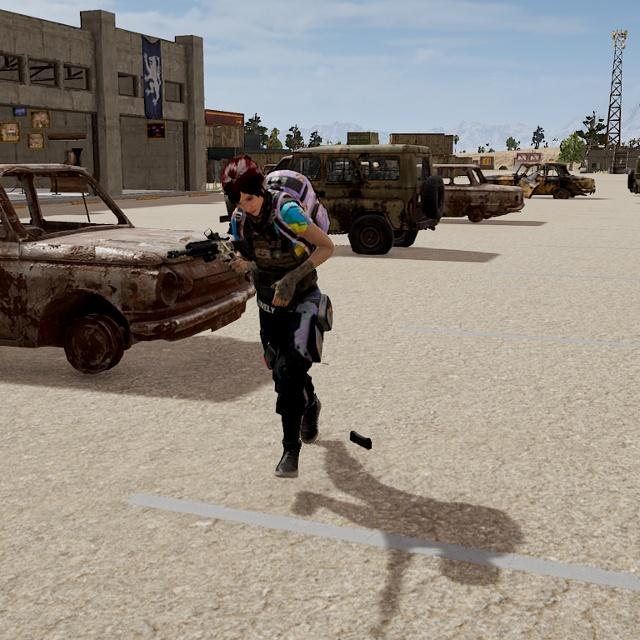head: (218, 156, 266, 217)
people: (217, 155, 337, 480)
